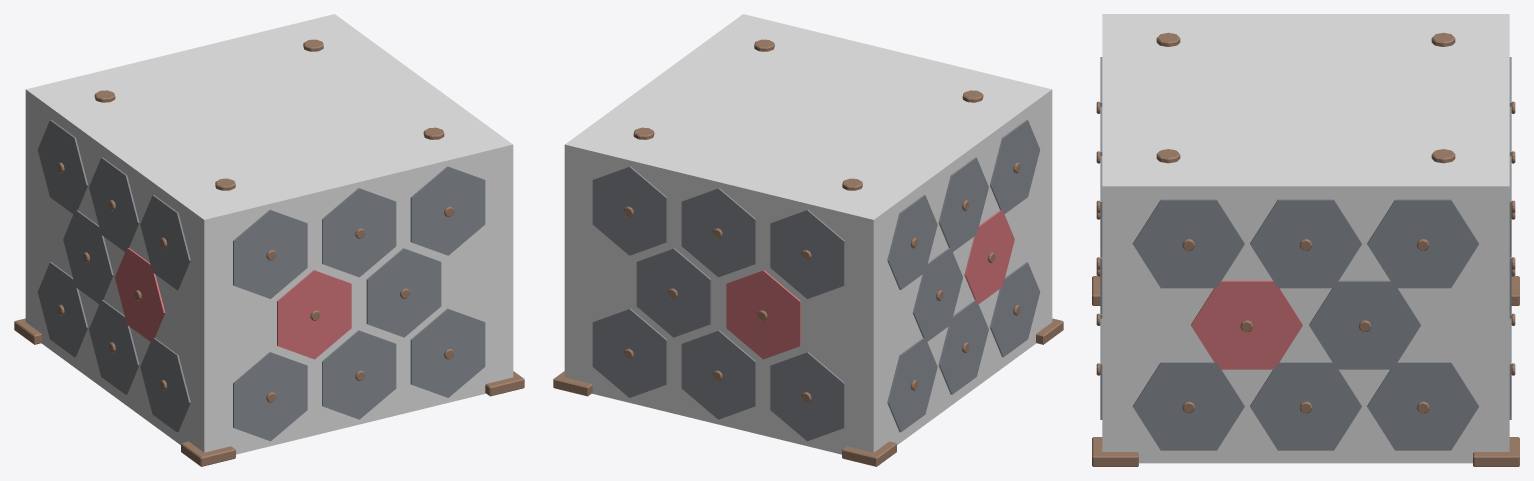
File: hex_cover.glb
3 views of the same model, side by side, from view 1: azimuth 30°, elevation 25°; view 2: azimuth 150°, elevation 25°; view 3: azimuth 270°, elevation 25° (orthographic). The views are drawn at different scales.
Visible parts, largest first — view 1: COL_hex_cover, hex_cover; view 2: COL_hex_cover, hex_cover; view 3: COL_hex_cover, hex_cover.
Part boxes in pixels (<box>): COL_hex_cover: <box>25,14,513,454</box>; hex_cover: <box>14,39,524,466</box>; COL_hex_cover: <box>564,14,1052,454</box>; hex_cover: <box>553,39,1063,466</box>; COL_hex_cover: <box>1102,14,1509,463</box>; hex_cover: <box>1092,32,1519,466</box>.
Bounding box in the file's own units: 4.2 × 3.05 × 4.2.
